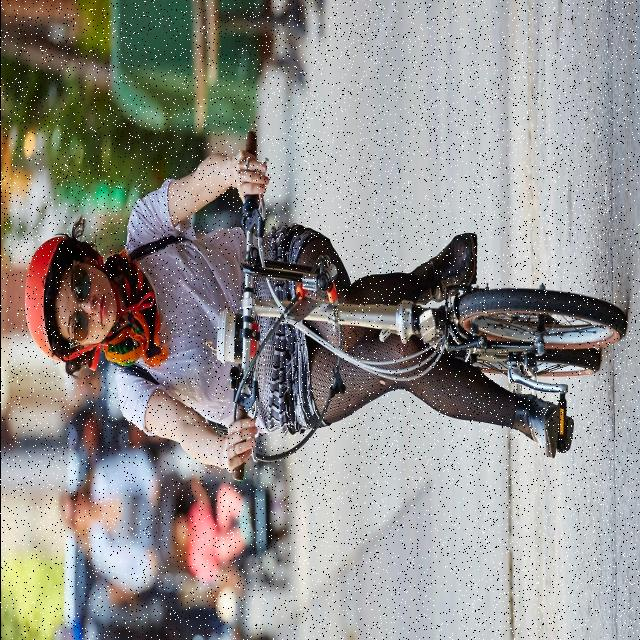Helmet: (26, 240, 115, 366)
